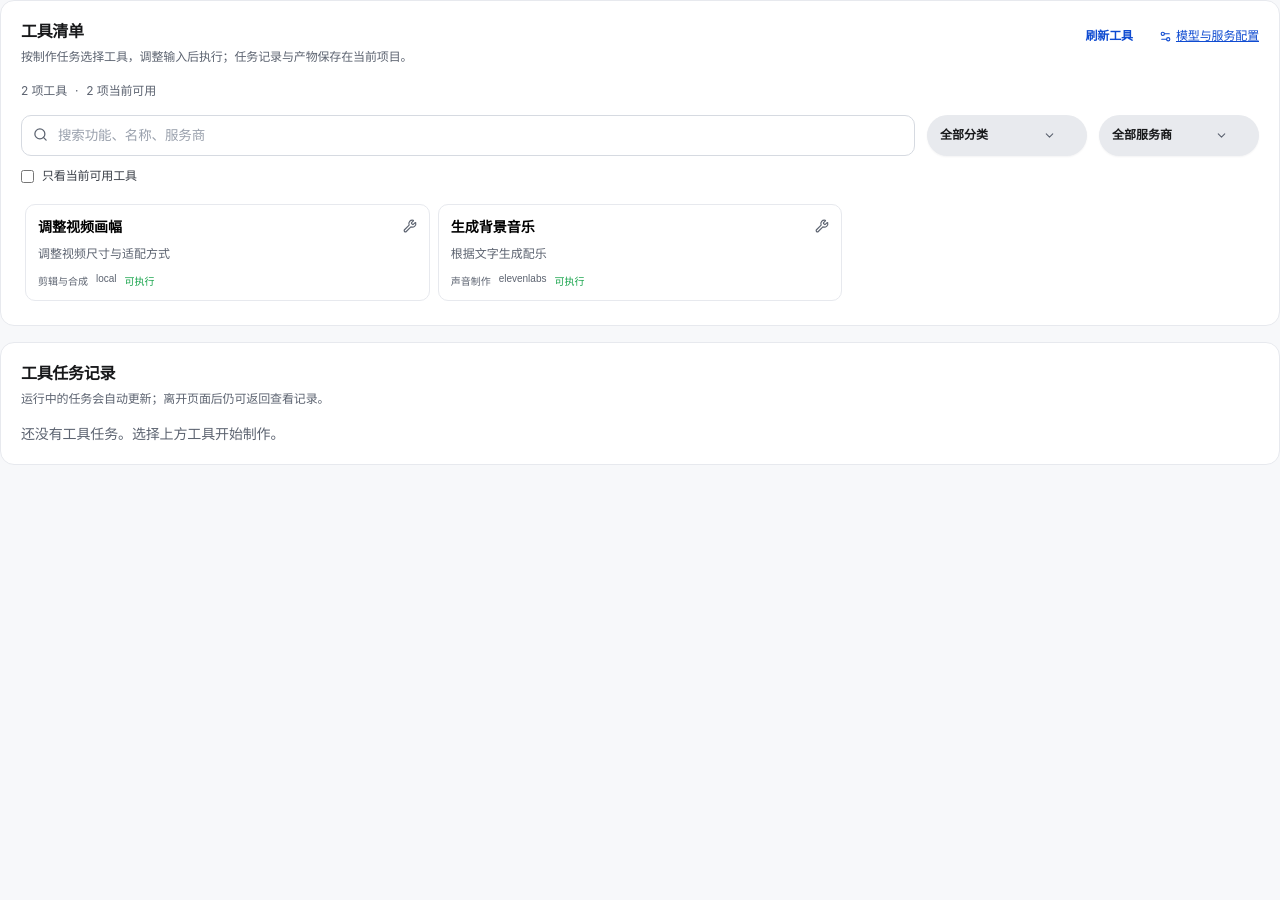
Test: requires matching service and provider instead of using an unrelated model
The width and height of the screenshot is (1280, 900).
Click the button "生成背景音乐 根据文字生成配乐 声音制作 elevenlabs 可执行" at (493, 227), box [438,204,842,301]
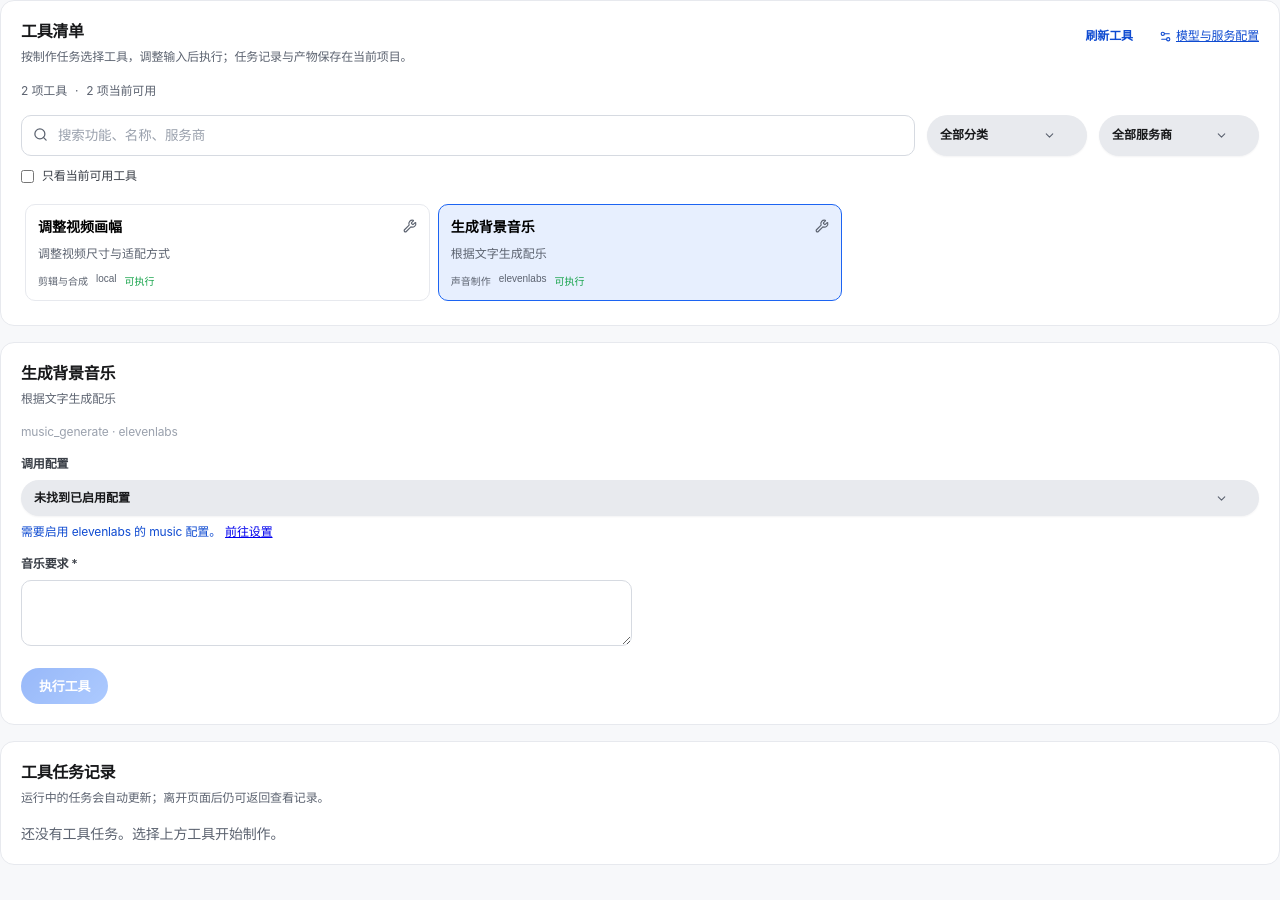
Now the button "执行工具" is disabled, box [21,668,108,704]
Now the text "需要启用 elevenlabs 的 music 配置。 前往设置" is shown, box [21,524,272,539]
